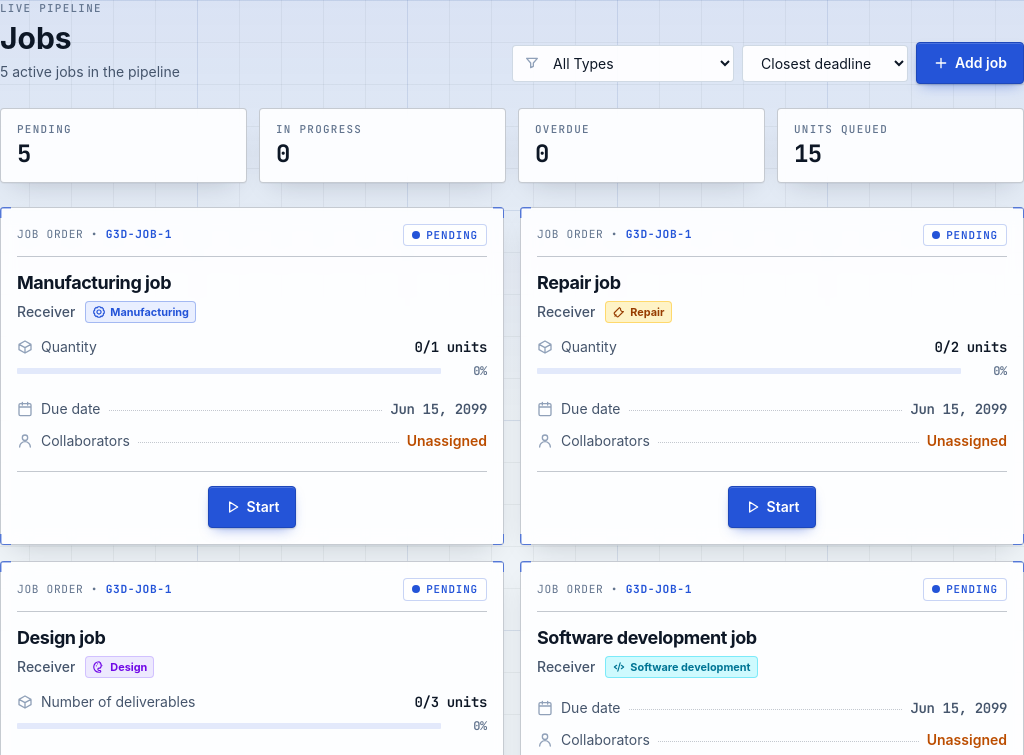
Jobs category filter › filters active jobs to Repair
Select "Repair" in the dropdown named "Filter by job type": (623, 63) [512,45,734,82]
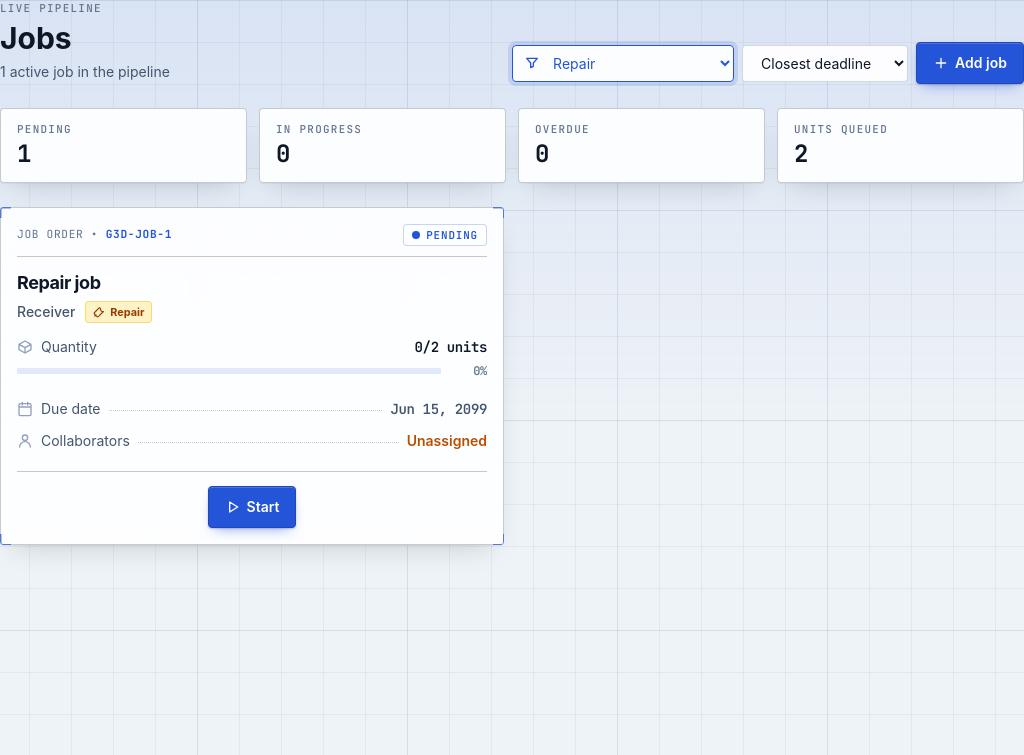
Expected: the headings read "Repair job", in this order, [17,272,100,293]
